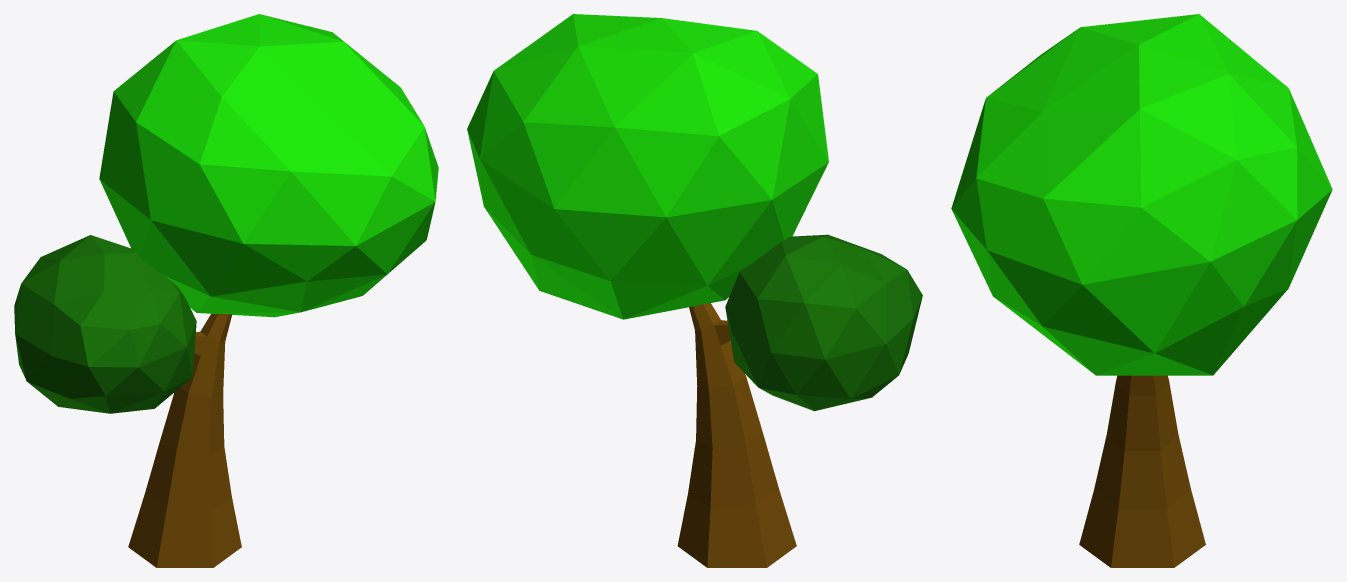
File: tree.01.fbx
3 renders of one model, left to right at view 1: azimuth 30°, elevation 25°; view 2: azimuth 150°, elevation 25°; view 3: azimuth 270°, elevation 25°, orthographic. The views are drawn at different scales.
Visible parts, largest first — view 1: tree_1_green_1.001, tree_1_green_2.001, tree1; view 2: tree_1_green_1.001, tree_1_green_2.001, tree1; view 3: tree_1_green_1.001, tree1.
Part boxes in pixels (left/top/right/bottom): tree_1_green_1.001: left=99, top=14, right=438, bottom=317; tree_1_green_2.001: left=14, top=235, right=196, bottom=413; tree1: left=128, top=313, right=241, bottom=567; tree_1_green_1.001: left=467, top=14, right=828, bottom=319; tree_1_green_2.001: left=725, top=234, right=922, bottom=411; tree1: left=677, top=303, right=796, bottom=567; tree_1_green_1.001: left=951, top=14, right=1332, bottom=375; tree1: left=1079, top=375, right=1205, bottom=567.
Size of the model in its own units: 3.25 by 3.92 by 2.51.
